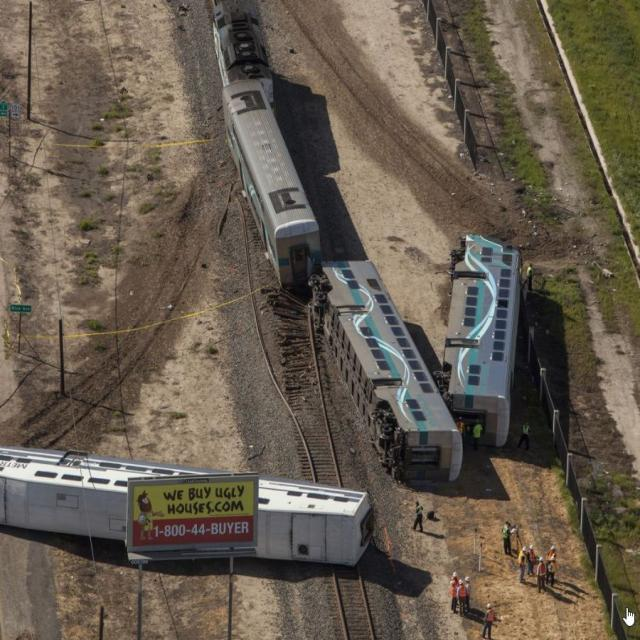traffic_incident: (0, 81, 513, 546)
